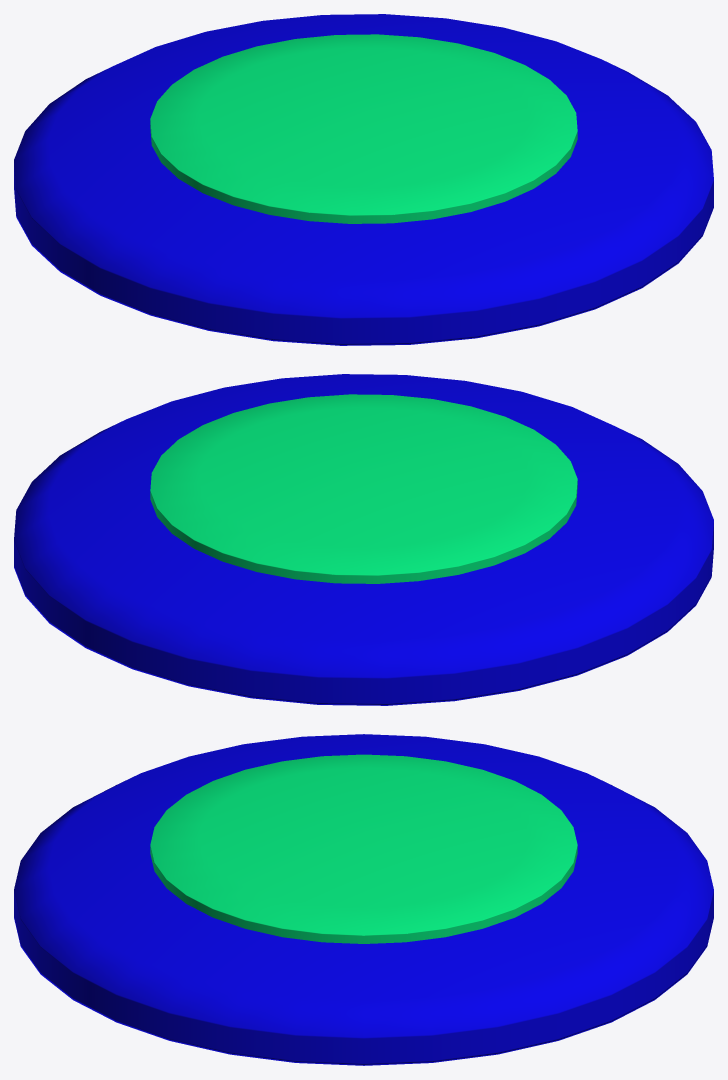
Rendered from lampka_01.fbx.
3 renders of one model, top to bottom at view 1: azimuth 30°, elevation 25°; view 2: azimuth 150°, elevation 25°; view 3: azimuth 270°, elevation 25°, orthographic.
Parts seen in each view (by area): view 1: Cylinder, Cylinder.001; view 2: Cylinder, Cylinder.001; view 3: Cylinder, Cylinder.001.
Boxes of the visible parts, x1,y1,x2,y2 form: Cylinder: (14,14,713,345); Cylinder.001: (150,34,577,223); Cylinder: (14,374,713,705); Cylinder.001: (150,394,577,583); Cylinder: (14,734,713,1065); Cylinder.001: (150,754,577,943).
Size of the model in its own units: 200 by 27.51 by 200.
